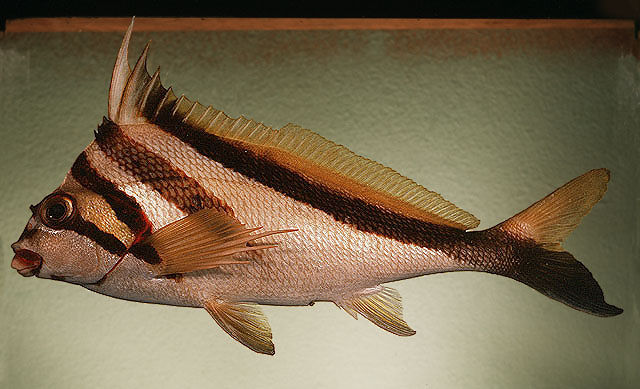fish: (12, 17, 624, 355)
